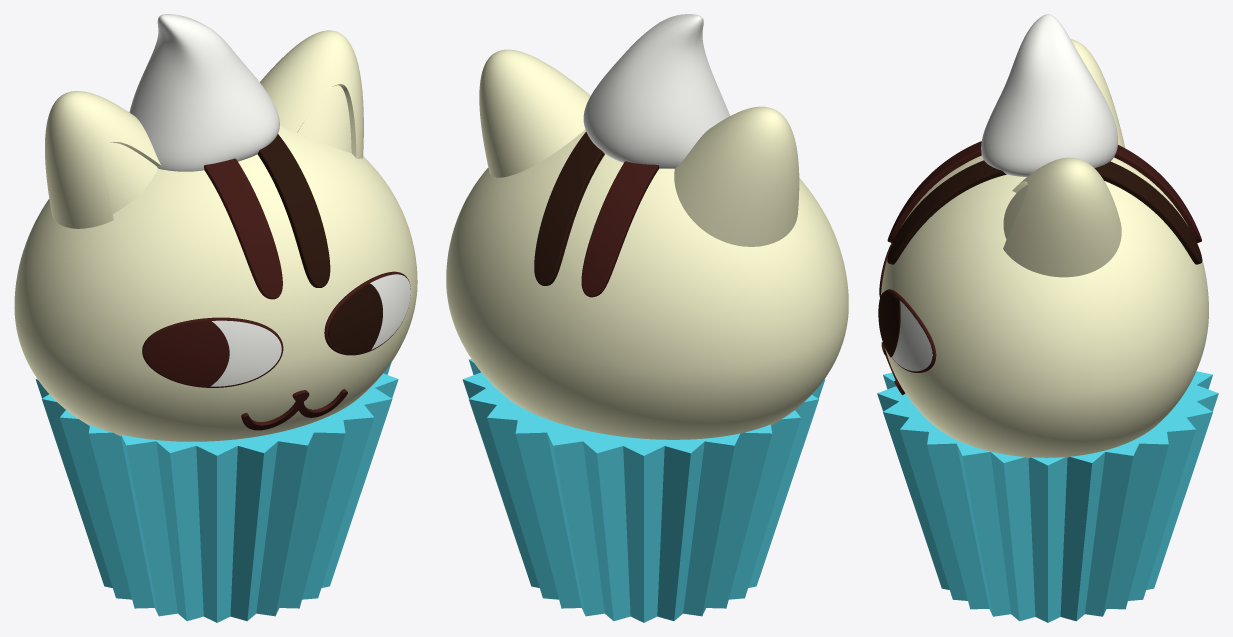
The picture shows the model from 3 angles, left to right: view 1: azimuth 30°, elevation 25°; view 2: azimuth 150°, elevation 25°; view 3: azimuth 270°, elevation 25°; orthographic projection. The views are drawn at different scales.
Visible parts, largest first — view 1: 기본값; view 2: 기본값; view 3: 기본값.
Part boxes in pixels (box(x1,y1,x2,y2)): 기본값: box(14, 14, 417, 622); 기본값: box(446, 14, 848, 622); 기본값: box(877, 14, 1218, 622).
Bounding box in the file's own units: 0.049 × 0.0736 × 0.0424.
